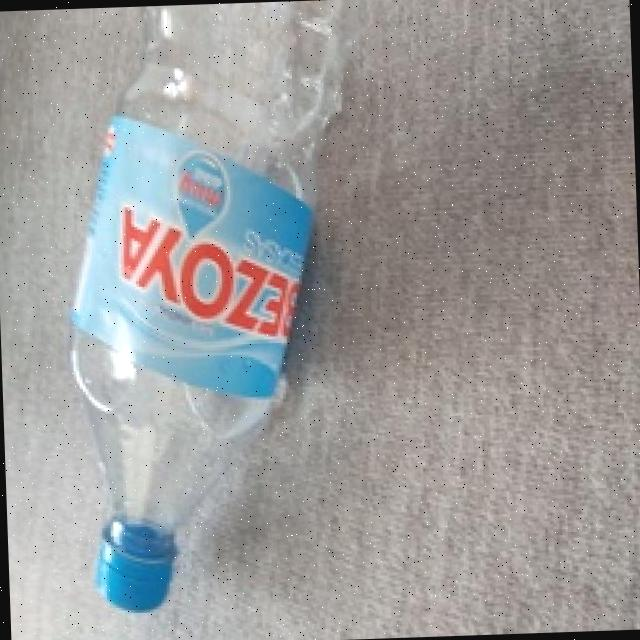bottle: (32, 1, 430, 640)
cap: (89, 526, 185, 614)
label: (51, 94, 335, 416)
